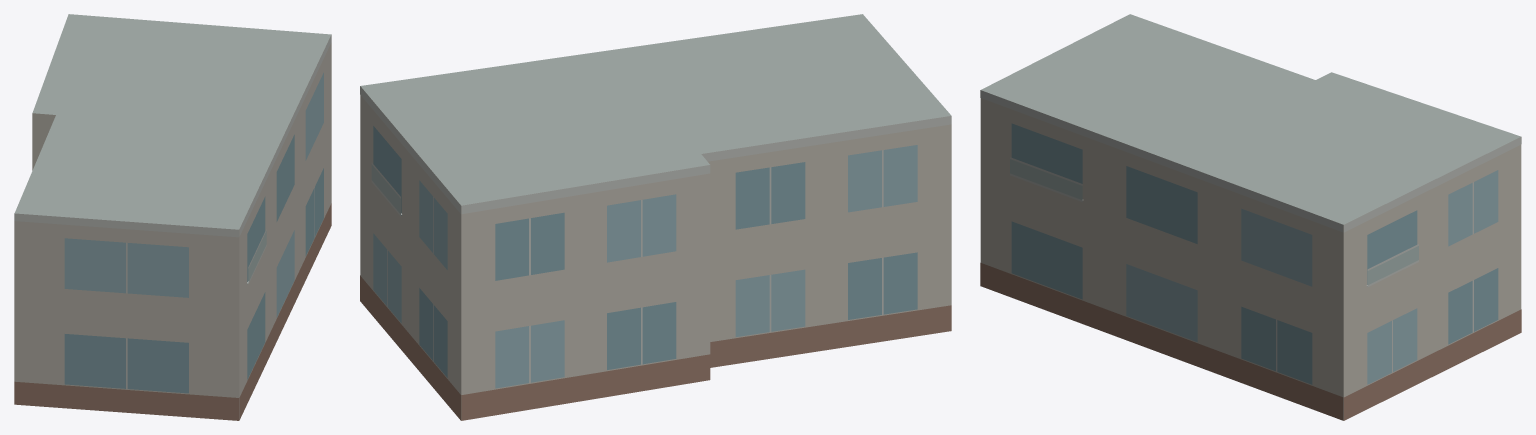
File: survey-upis-32925371.glb
3 renders of one model, left to right at view 1: azimuth 30°, elevation 25°; view 2: azimuth 150°, elevation 25°; view 3: azimuth 270°, elevation 25°, orthographic. The views are drawn at different scales.
Parts seen in each view (by area): view 1: survey-upis-32925371.tmp; view 2: survey-upis-32925371.tmp; view 3: survey-upis-32925371.tmp.
Part boxes in pixels (bbox=[...]): survey-upis-32925371.tmp: bbox=[14, 14, 331, 420]; survey-upis-32925371.tmp: bbox=[360, 14, 951, 420]; survey-upis-32925371.tmp: bbox=[980, 14, 1521, 420].
Size of the model in its own units: 14.08 by 6.1 by 15.26.
